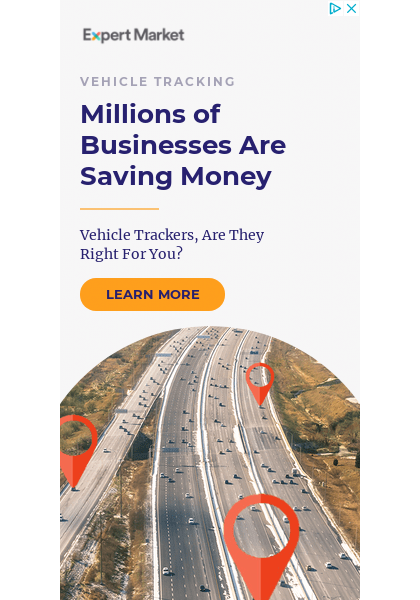fake_button: (61, 268, 251, 328)
